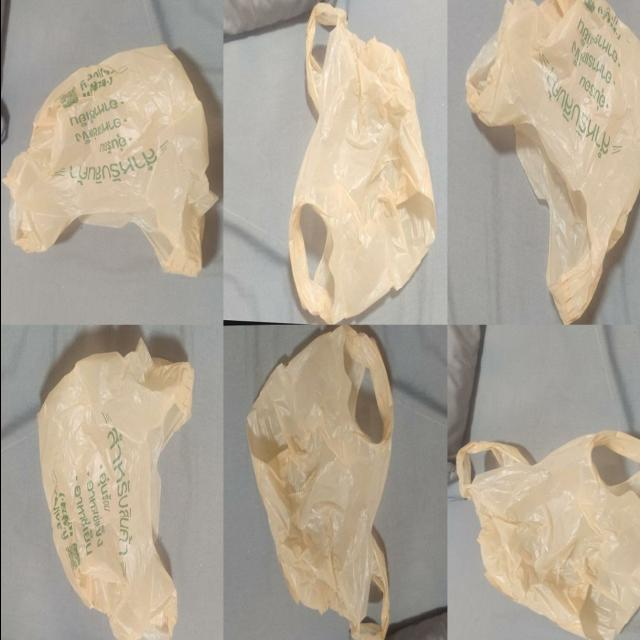plastik: (464, 0, 640, 324), (2, 45, 216, 277), (36, 340, 192, 640), (288, 4, 434, 323), (246, 326, 392, 640), (455, 431, 640, 640)
